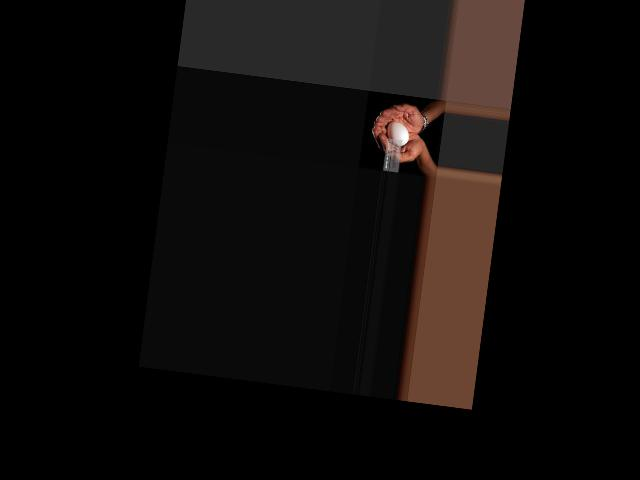egg: (384, 120, 410, 146)
